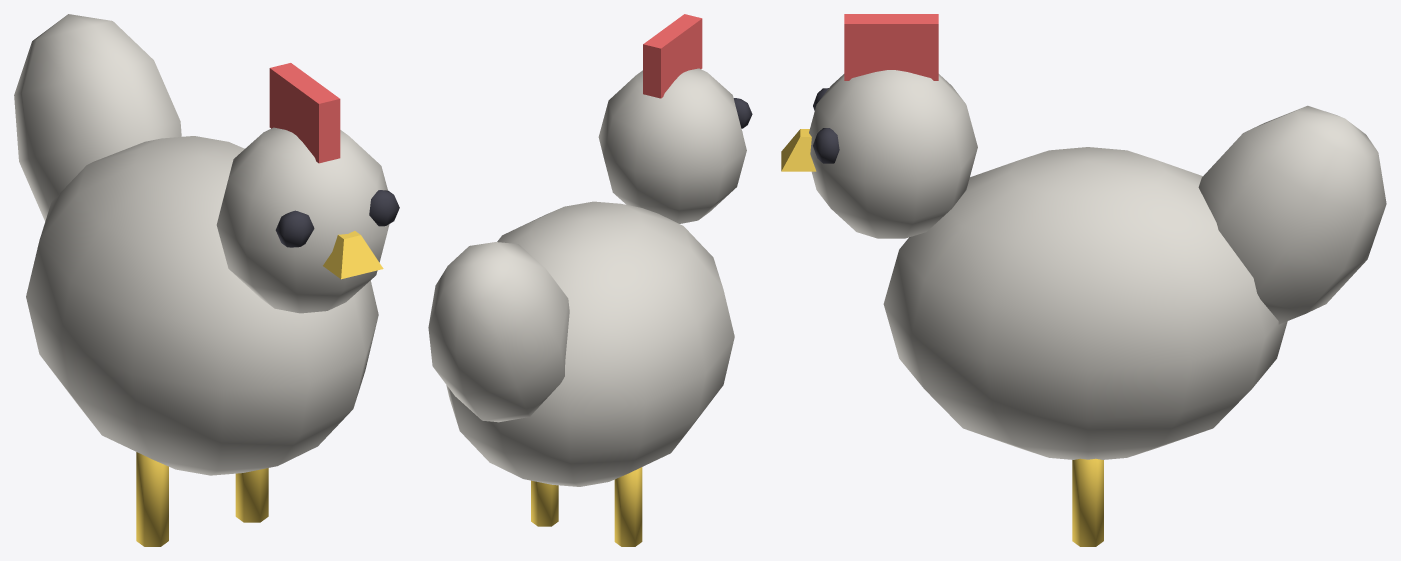
File: Prop_Ayam.fbx
3 renders of one model, left to right at view 1: azimuth 30°, elevation 25°; view 2: azimuth 150°, elevation 25°; view 3: azimuth 270°, elevation 25°, orthographic. The views are drawn at different scales.
Parts seen in each view (by area): view 1: Prop_Ayam; view 2: Prop_Ayam; view 3: Prop_Ayam.
Part boxes in pixels (left/top/right/bottom): Prop_Ayam: left=14, top=14, right=399, bottom=546; Prop_Ayam: left=428, top=14, right=752, bottom=546; Prop_Ayam: left=781, top=14, right=1386, bottom=546.
Size of the model in its own units: 0.4 by 0.7 by 0.7696.
